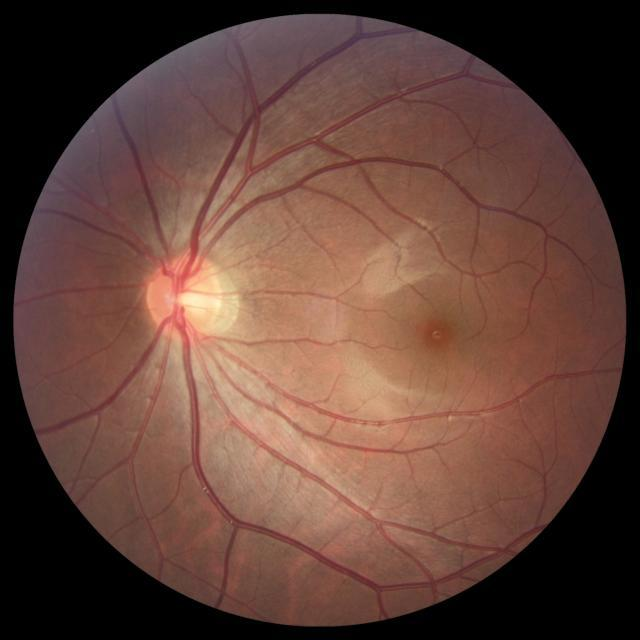OC: (165, 278, 204, 318)
OD: (146, 254, 224, 338)
